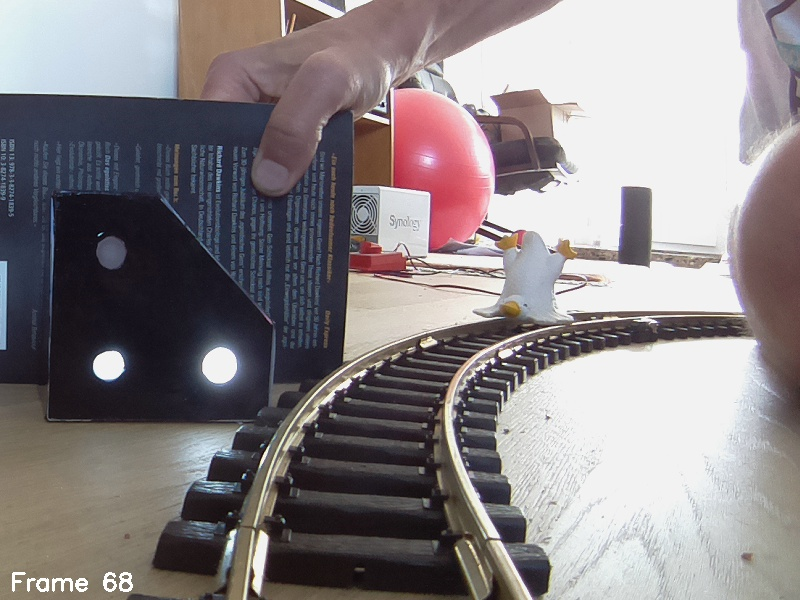Halt: (51, 191, 273, 431)
